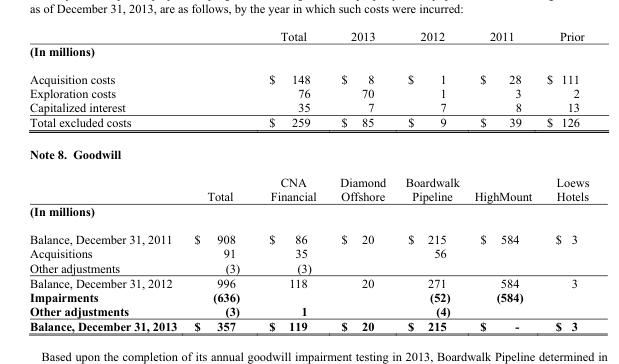table: (28, 28, 588, 332)
table column: (28, 28, 185, 332), (253, 28, 327, 332), (394, 28, 466, 332), (466, 28, 538, 332), (185, 28, 253, 332), (327, 28, 394, 332), (538, 28, 588, 332)
table column header: (28, 28, 588, 43)
table projected row header: (28, 137, 588, 167), (28, 43, 588, 64), (28, 203, 588, 224)
table row: (28, 167, 588, 203), (28, 137, 588, 167), (28, 114, 588, 137), (28, 64, 588, 86), (28, 224, 588, 246), (28, 43, 588, 64), (28, 203, 588, 224), (28, 28, 588, 43), (28, 274, 588, 289), (28, 303, 588, 318), (28, 86, 588, 100), (28, 100, 588, 114), (28, 246, 588, 260), (28, 260, 588, 274), (28, 289, 588, 303), (28, 318, 588, 332)
